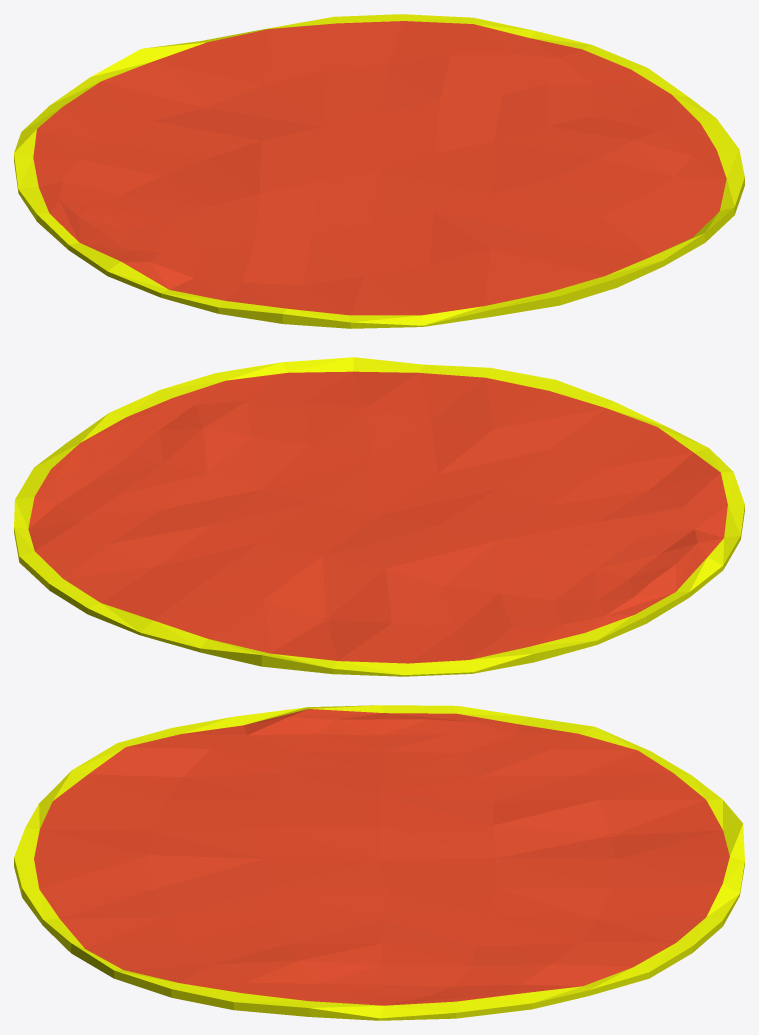
File: carpet.fbx
The picture shows the model from 3 angles, top to bottom: view 1: azimuth 30°, elevation 25°; view 2: azimuth 150°, elevation 25°; view 3: azimuth 270°, elevation 25°; orthographic projection. The views are drawn at different scales.
Parts seen in each view (by area): view 1: carpet; view 2: carpet; view 3: carpet.
Boxes of the visible parts, <box> form: carpet: <box>14,14,744,328</box>; carpet: <box>14,357,744,676</box>; carpet: <box>14,705,744,1020</box>.
Bounding box in the file's own units: 4.56 × 0.0882 × 4.54.
